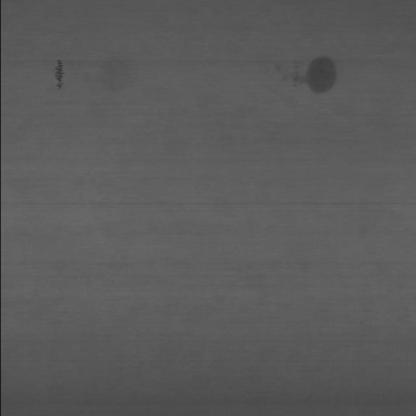oil_spot: (288, 48, 352, 104), (44, 55, 72, 95)
